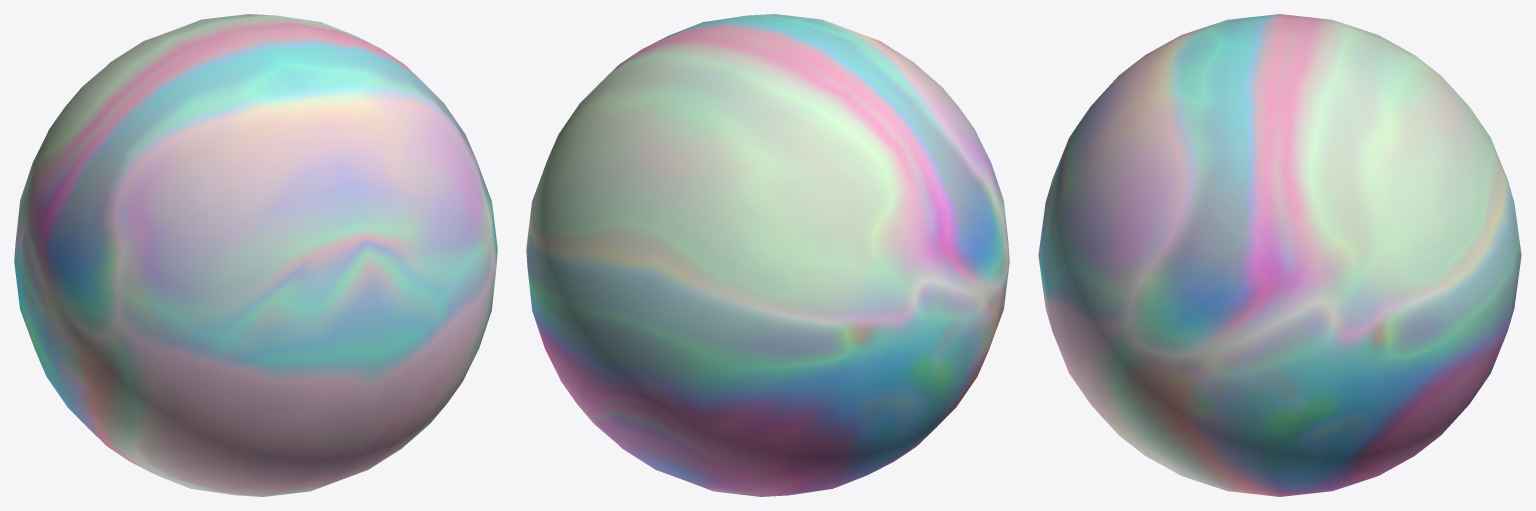
The model's file is Rainbow_ball.fbx.
The picture shows the model from 3 angles, left to right: view 1: azimuth 30°, elevation 25°; view 2: azimuth 150°, elevation 25°; view 3: azimuth 270°, elevation 25°; orthographic projection.
Parts seen in each view (by area): view 1: Rainbow_ball; view 2: Rainbow_ball; view 3: Rainbow_ball.
Part boxes in pixels (x1=…): Rainbow_ball: x1=14, y1=14, x2=497, y2=496; Rainbow_ball: x1=526, y1=14, x2=1009, y2=496; Rainbow_ball: x1=1038, y1=14, x2=1521, y2=496.
Bounding box in the file's own units: 4.18 × 4.18 × 4.18.
Materials: 1 (1 with a texture image).
